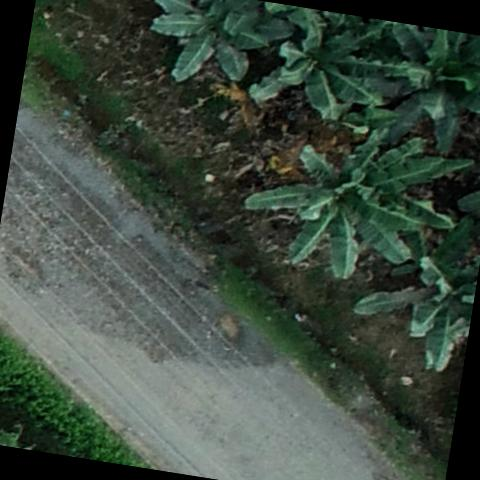Banana-plant: (228, 101, 480, 299), (326, 14, 480, 171), (342, 226, 480, 377), (242, 1, 388, 132), (139, 0, 298, 100), (387, 201, 480, 297)
